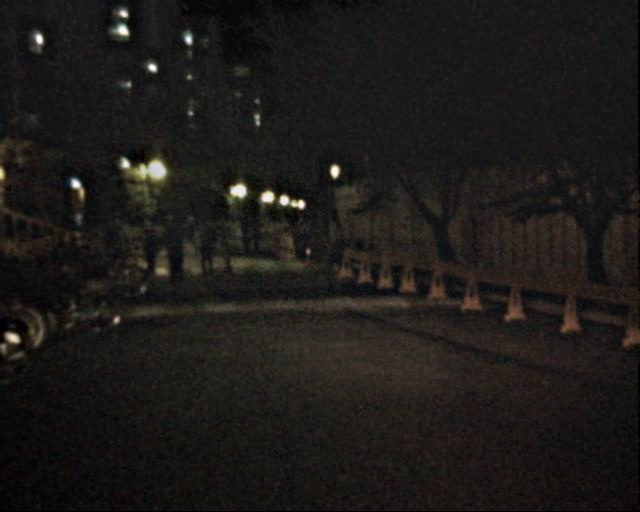person: (161, 217, 187, 281), (140, 218, 164, 277), (195, 223, 218, 280), (109, 214, 132, 271), (327, 222, 349, 275), (182, 216, 198, 254), (237, 216, 252, 252), (246, 217, 260, 252)
